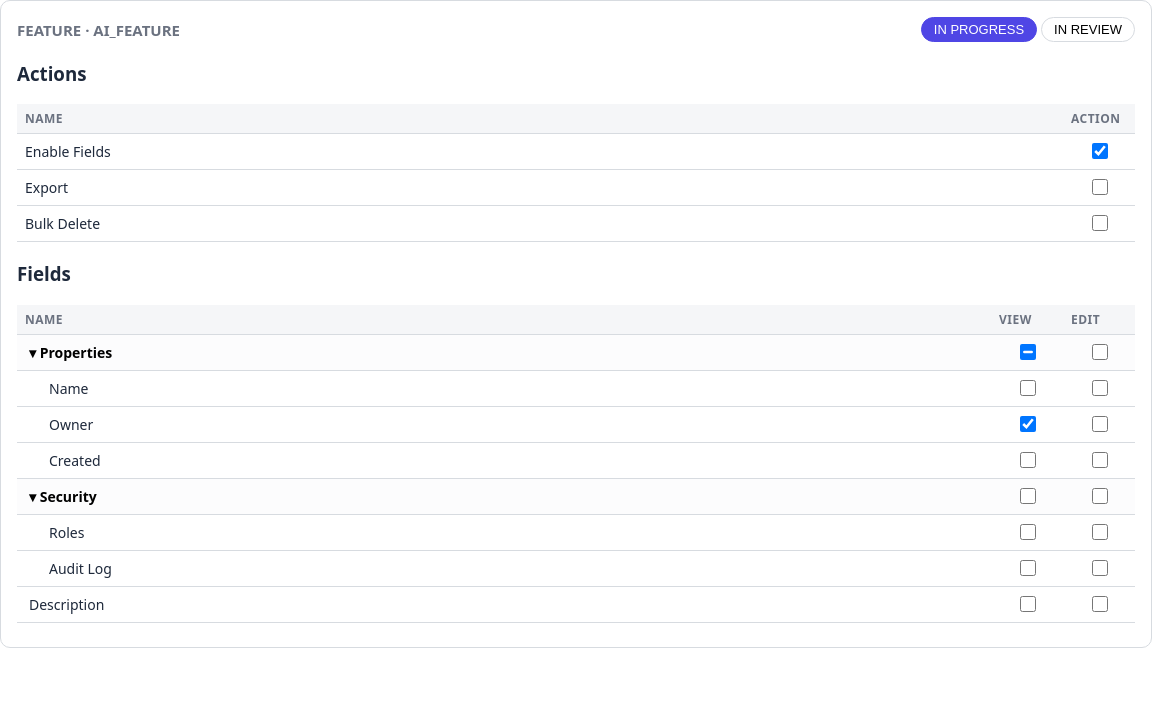
CheckboxPageContainer (§3, end-to-end UI) › checking EDIT auto-checks its VIEW (FE invariant through the UI)
This screenshot has width=1152, height=720.
Expected: the checkbox named "Description view" is not checked, [1020,596,1036,612]
Click the checkbox named "Description edit": [1100, 604] box [1092,596,1108,612]
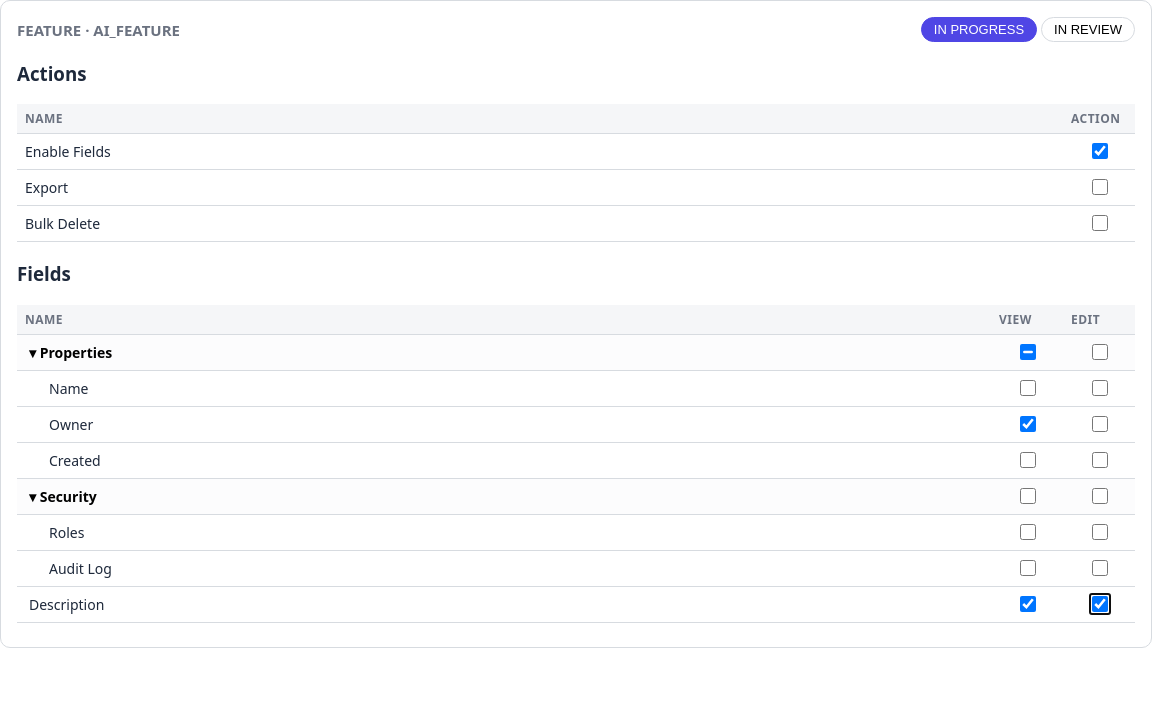
Expected: the checkbox named "Description edit" is checked, [1092,596,1108,612]
Expected: the checkbox named "Description view" is checked, [1020,596,1036,612]
